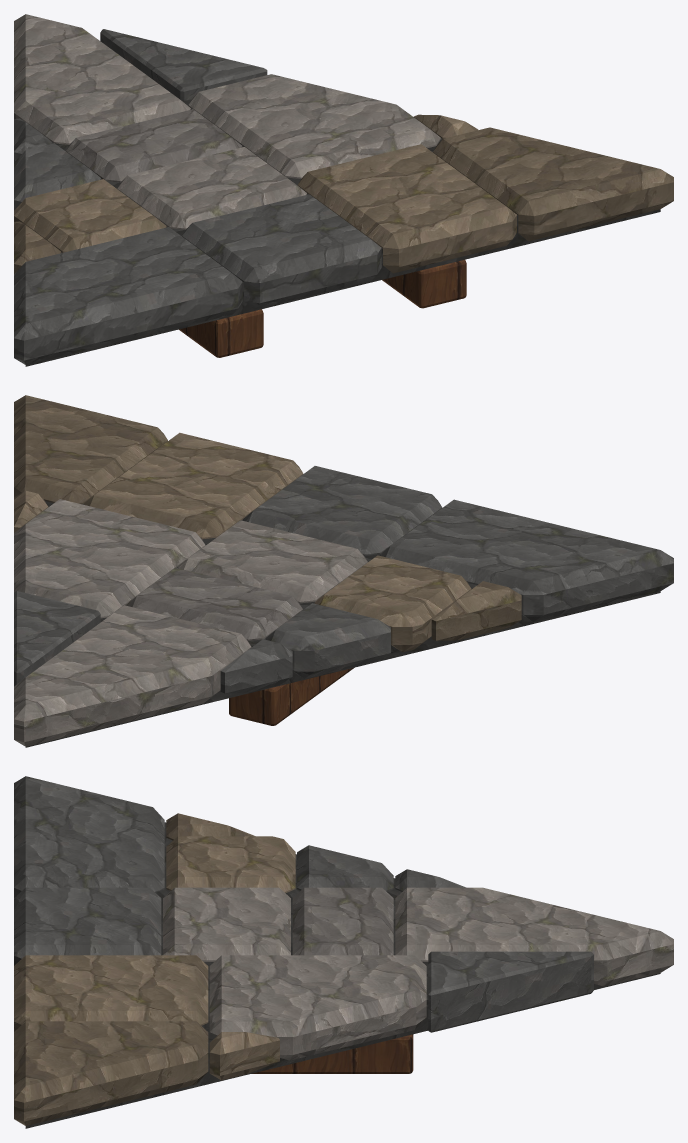
The model's file is floor_triangle__cut_stone.glb.
3 views of the same model, one above another, from view 1: azimuth 30°, elevation 25°; view 2: azimuth 150°, elevation 25°; view 3: azimuth 270°, elevation 25° (orthographic).
Parts seen in each view (by area): view 1: model; view 2: model; view 3: model.
Part boxes in pixels (x1,y1,x2,y2): model: (14, 14, 673, 366); model: (14, 395, 673, 747); model: (14, 776, 673, 1128).
Size of the model in its own units: 1.95 by 0.235 by 1.69.
7 materials, 7 textured.
